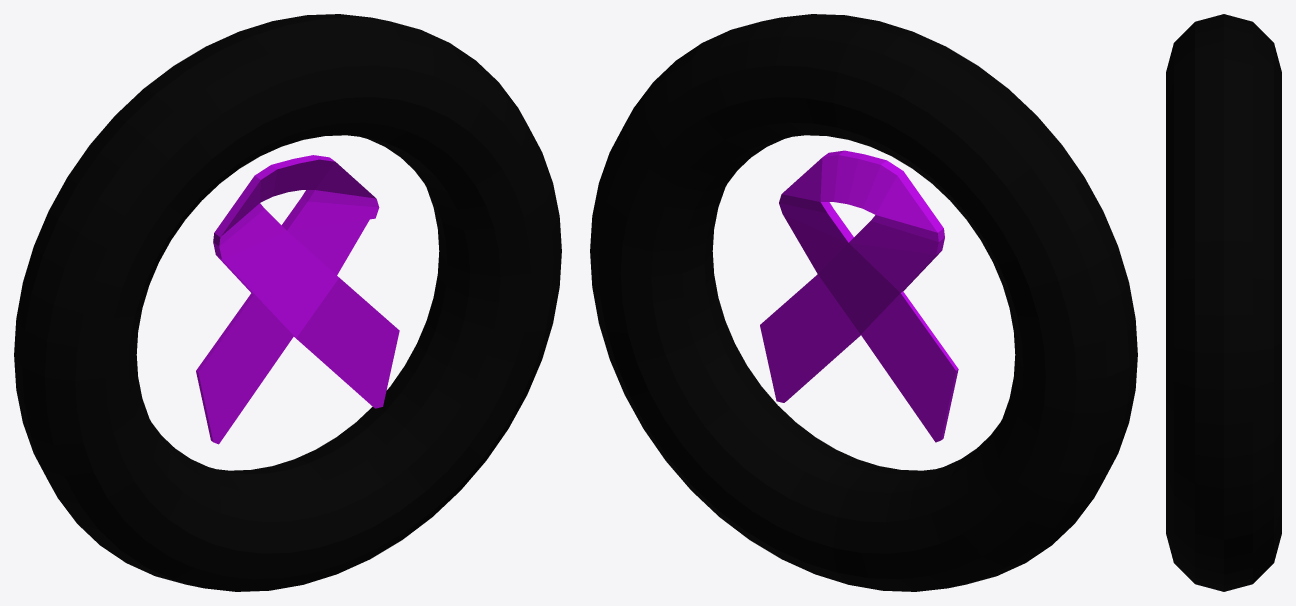
File: ribbonicon.glb
3 views of the same model, side by side, from view 1: azimuth 30°, elevation 25°; view 2: azimuth 150°, elevation 25°; view 3: azimuth 270°, elevation 25° (orthographic). The views are drawn at different scales.
Parts seen in each view (by area): view 1: Torus, Plane.001; view 2: Torus, Plane.001; view 3: Torus.
Part boxes in pixels (x1,y1,x2,y2): Torus: (14,14,561,591); Plane.001: (196,155,399,444); Torus: (590,14,1137,591); Plane.001: (760,150,958,442); Torus: (1166,14,1281,591).
Size of the model in its own units: 2.5 by 2.5 by 0.5.
